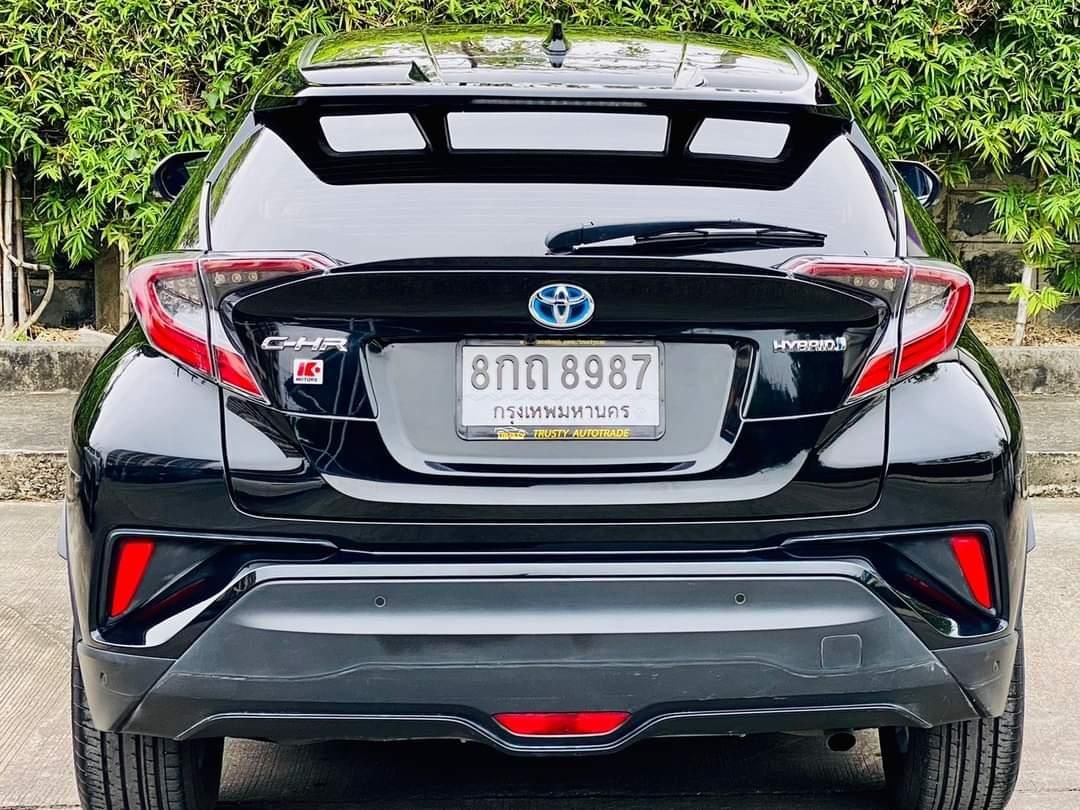license-plate: (457, 332, 670, 443)
